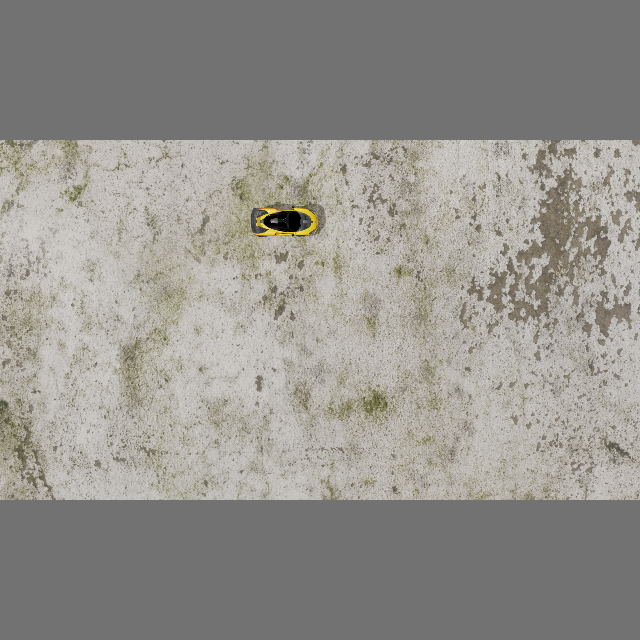car: (250, 205, 318, 238)
